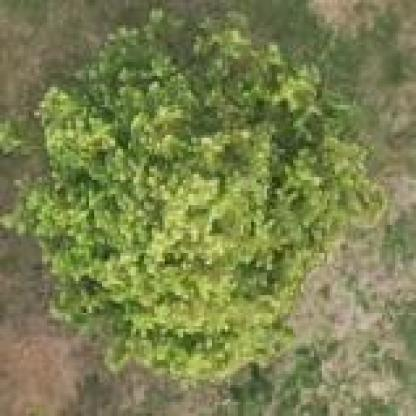Deciduous Tree: (13, 7, 390, 381)
